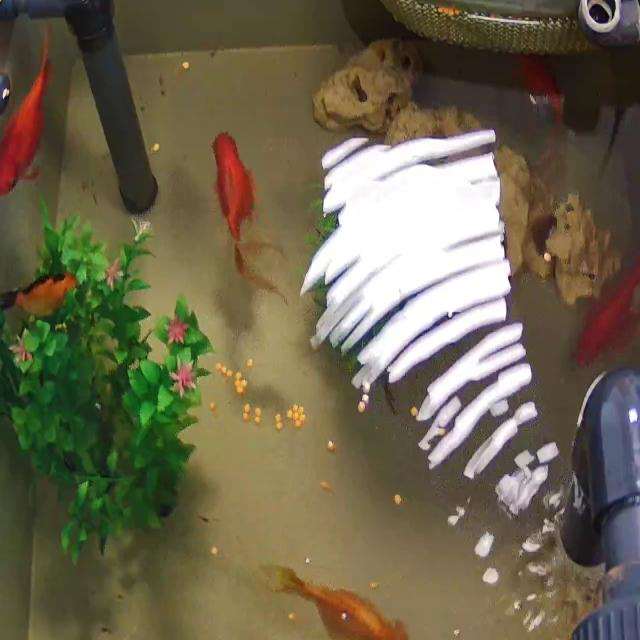fish: (214, 130, 290, 303), (574, 178, 640, 365), (272, 561, 392, 640), (0, 33, 56, 195), (0, 262, 82, 323), (519, 51, 563, 122)
